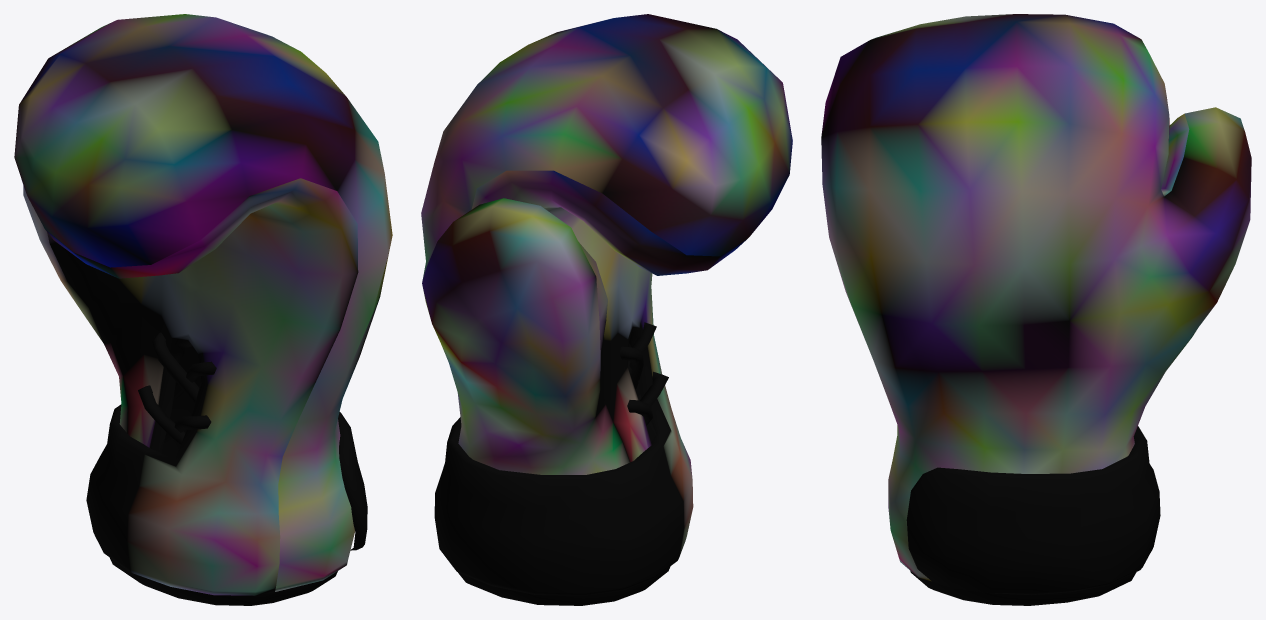
File: Items_BoxingGloveB_SM.gltf
3 views of the same model, side by side, from view 1: azimuth 30°, elevation 25°; view 2: azimuth 150°, elevation 25°; view 3: azimuth 270°, elevation 25° (orthographic). The views are drawn at different scales.
Visible parts, largest first — view 1: Items_BoxingGloveB_SM; view 2: Items_BoxingGloveB_SM; view 3: Items_BoxingGloveB_SM.
Part boxes in pixels (x1=…): Items_BoxingGloveB_SM: x1=14, y1=14, x2=392, y2=605; Items_BoxingGloveB_SM: x1=421, y1=14, x2=792, y2=605; Items_BoxingGloveB_SM: x1=821, y1=14, x2=1251, y2=605.
Size of the model in its own units: 0.3693 by 0.5986 by 0.4548.
